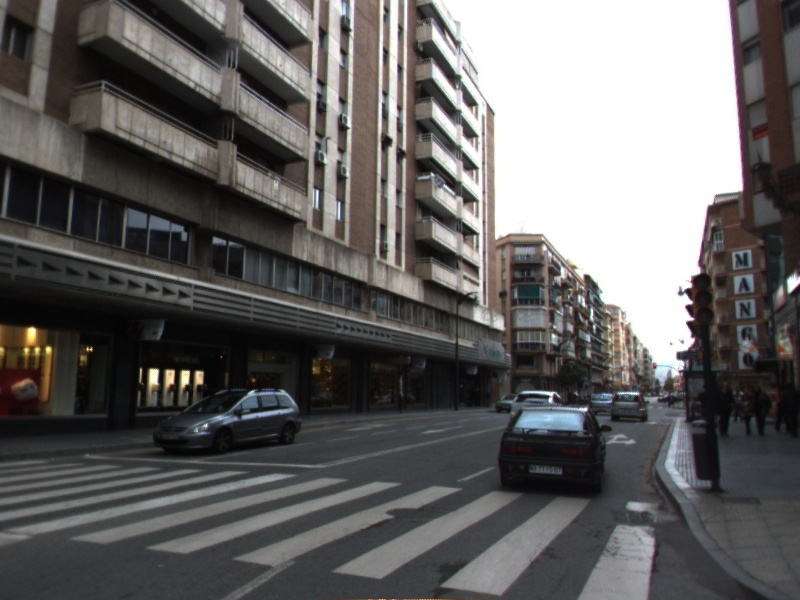STRAIGHT_RIGHT: (605, 432, 638, 446)
